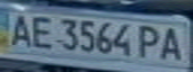3: (54, 16, 81, 52)
4: (112, 20, 136, 57)
5: (78, 17, 100, 53)
6: (93, 20, 115, 55)
A: (3, 10, 36, 47), (157, 25, 187, 62)
E: (24, 12, 57, 50)
P: (133, 22, 166, 60)
